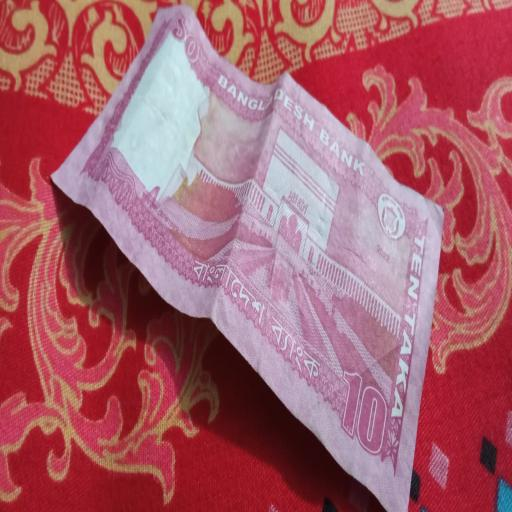10taka: (51, 13, 443, 511)
